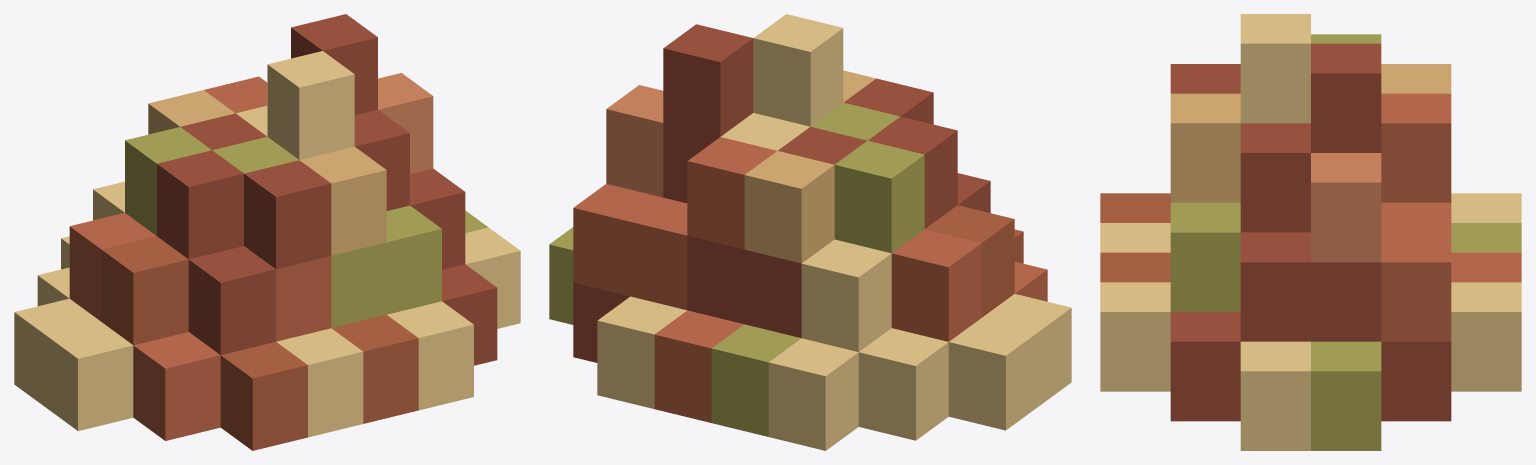
The model's file is DesertLedge.glb.
3 renders of one model, left to right at view 1: azimuth 30°, elevation 25°; view 2: azimuth 150°, elevation 25°; view 3: azimuth 270°, elevation 25°, orthographic. The views are drawn at different scales.
Parts seen in each view (by area): view 1: DesertLedge; view 2: DesertLedge; view 3: DesertLedge.
Part boxes in pixels (x1,y1,x2,y2): DesertLedge: (14, 14, 520, 450); DesertLedge: (549, 14, 1071, 450); DesertLedge: (1100, 14, 1521, 450).
Size of the model in its own units: 16 by 10 by 12.
1 material, 1 textured.
